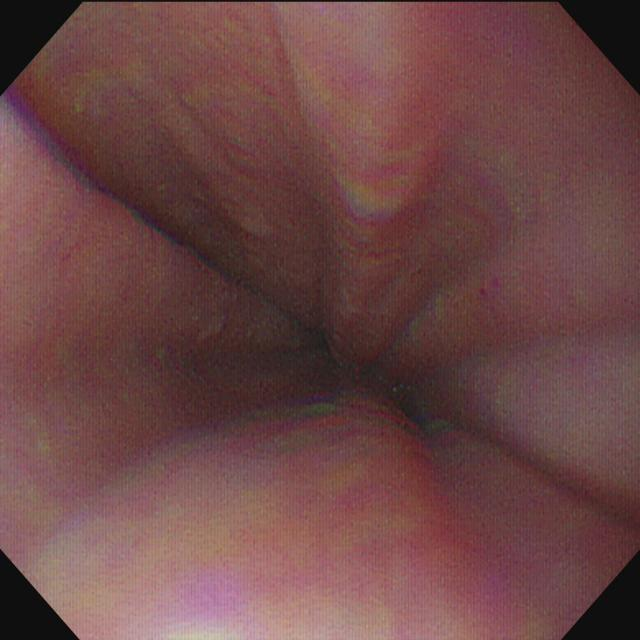I: (223, 250, 483, 469)
